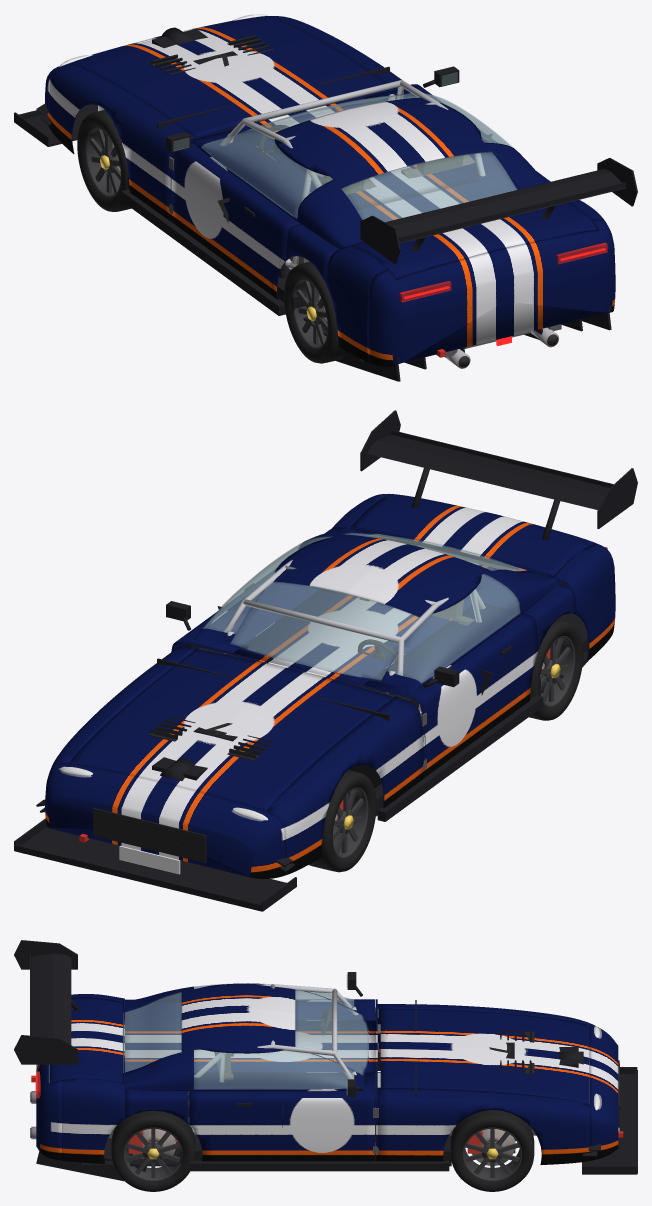
Rendered from longhood.glb.
The picture shows the model from 3 angles, top to bottom: view 1: azimuth 30°, elevation 25°; view 2: azimuth 150°, elevation 25°; view 3: azimuth 270°, elevation 25°; orthographic projection. The views are drawn at different scales.
Parts seen in each view (by area): view 1: Bumper_R, Hood, Roof_Pillars, Door_FL, Body_Sides, Fender_L, RearWing, Rear_Glass, Trunk, Window_FL, Body_Rear, RollCage (+19 smaller); view 2: Hood, Roof_Pillars, Door_FL, Bumper_F, Body_Sides, Windshield, Fender_L, RearWing, Trunk, Splitter, Window_FL, Body_Rear (+15 smaller); view 3: Hood, Door_FR, Roof_Pillars, Fender_R, Body_Sides, RearWing, Window_FR, Body_Rear, Trunk, Windshield, Rear_Glass, Bumper_F (+17 smaller).
Boxes of the visible parts, left/top/right/bottom form: Bumper_R: left=367, top=219, right=615, bottom=366; Hood: left=69, top=16, right=392, bottom=136; Roof_Pillars: left=193, top=90, right=545, bottom=248; Door_FL: left=171, top=129, right=314, bottom=299; Body_Sides: left=169, top=84, right=550, bottom=282; Fender_L: left=48, top=64, right=194, bottom=221; RearWing: left=360, top=158, right=637, bottom=264; Rear_Glass: left=341, top=152, right=517, bottom=221; Trunk: left=351, top=202, right=597, bottom=279; Window_FL: left=201, top=131, right=332, bottom=218; Body_Rear: left=325, top=200, right=605, bottom=362; RollCage: left=220, top=80, right=485, bottom=269; Hood: left=69, top=649, right=393, bottom=811; Roof_Pillars: left=193, top=528, right=558, bottom=692; Door_FL: left=364, top=604, right=538, bottom=777; Bumper_F: left=45, top=763, right=286, bottom=878; Body_Sides: left=171, top=529, right=576, bottom=778; Windshield: left=230, top=581, right=419, bottom=680; Fender_L: left=267, top=696, right=423, bottom=875; RearWing: left=360, top=410, right=637, bottom=540; Trunk: left=351, top=494, right=597, bottom=576; Splitter: left=14, top=818, right=296, bottom=911; Window_FL: left=387, top=573, right=520, bottom=683; Body_Rear: left=331, top=495, right=611, bottom=661; Hood: left=380, top=1008, right=589, bottom=1104; Door_FR: left=189, top=1072, right=374, bottom=1161; Roof_Pillars: left=123, top=983, right=368, bottom=1091; Fender_R: left=377, top=1087, right=589, bottom=1164; Body_Sides: left=125, top=999, right=377, bottom=1161; RearWing: left=14, top=940, right=80, bottom=1064; Window_FR: left=194, top=1049, right=354, bottom=1089; Body_Rear: left=62, top=994, right=124, bottom=1163; Trunk: left=50, top=997, right=122, bottom=1083; Windshield: left=295, top=990, right=368, bottom=1075; Rear_Glass: left=123, top=992, right=181, bottom=1072; Bumper_F: left=590, top=1023, right=618, bottom=1160.
Bounding box in the file's own units: 2.21 × 1.39 × 5.06.
Materials: 31 (1 with a texture image).
